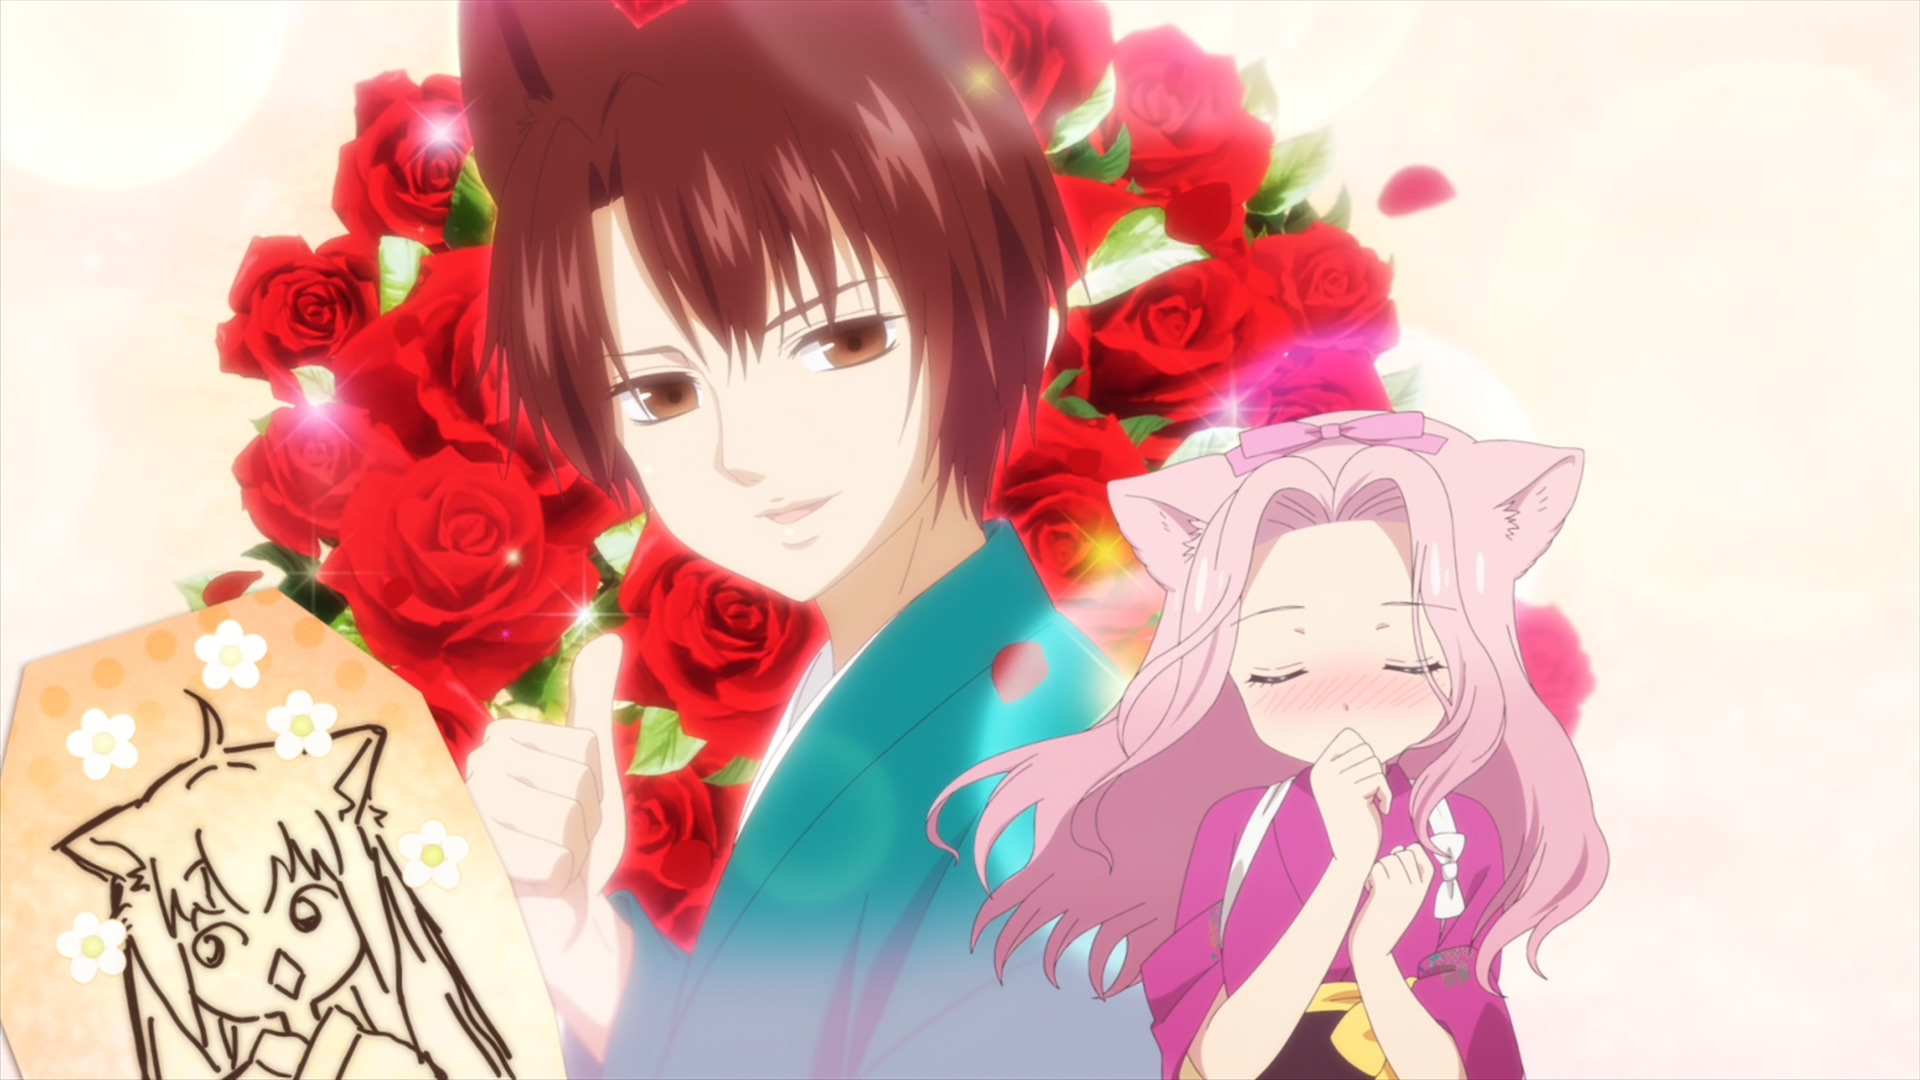枣: (459, 1, 1160, 1080)
莲: (927, 411, 1609, 1080)
